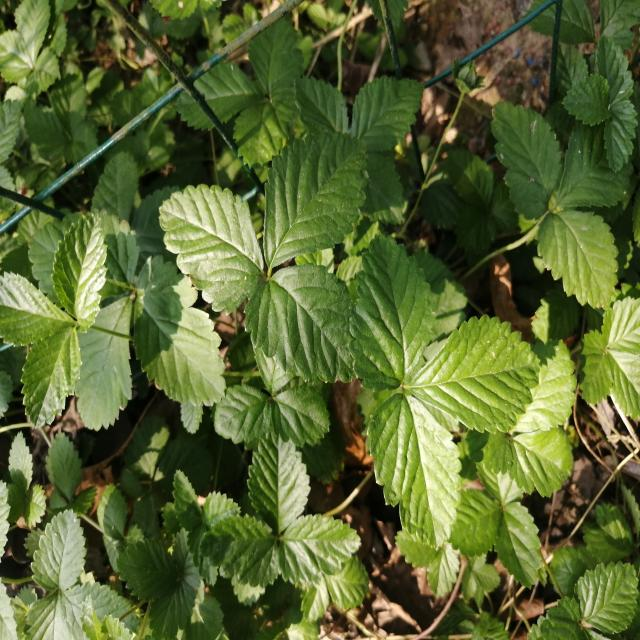Mock_strawberry: (169, 136, 375, 408), (350, 243, 530, 540), (0, 218, 171, 432), (198, 426, 340, 606)
